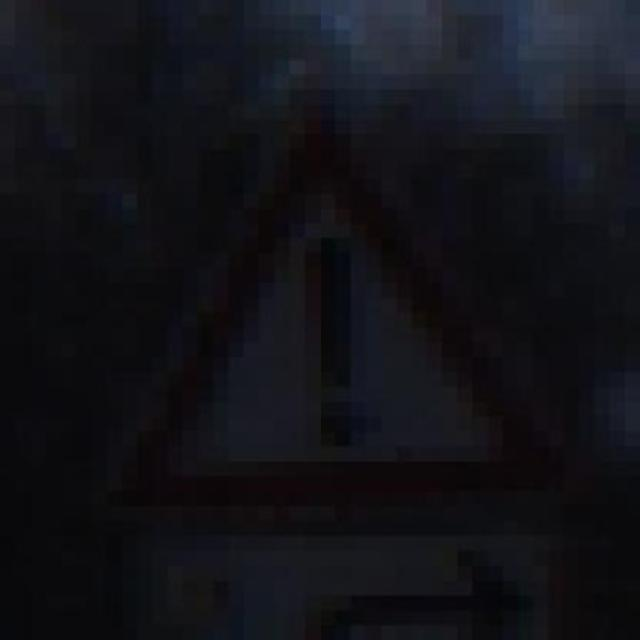Attention Please-: (64, 104, 582, 522)
